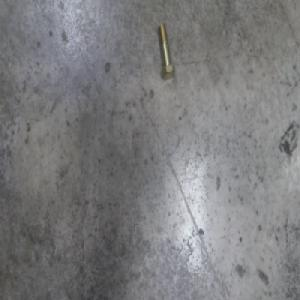Bolt: (158, 22, 175, 79)
